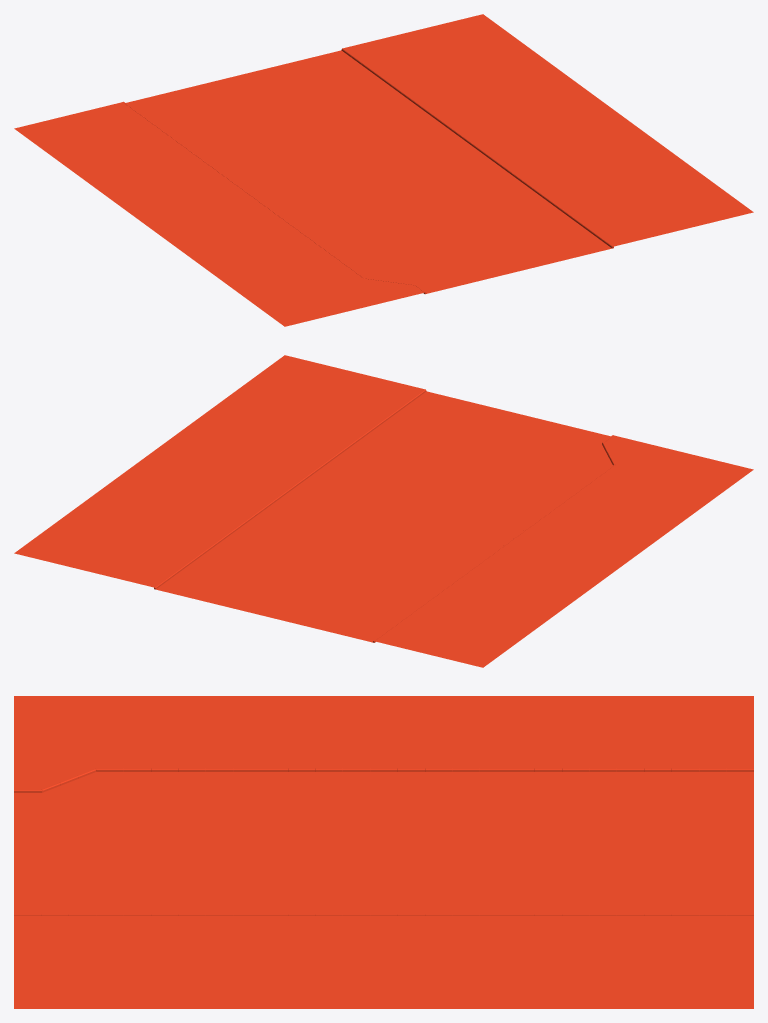
Rendered from SM_Mainroad_Stop_Start_L_30x30_City.fbx.
3 views of the same model, one above another, from view 1: azimuth 30°, elevation 25°; view 2: azimuth 150°, elevation 25°; view 3: azimuth 270°, elevation 25° (orthographic). The views are drawn at different scales.
Visible parts, largest first — view 1: SM_Mainroad_Stop_Start_L_30x30_City; view 2: SM_Mainroad_Stop_Start_L_30x30_City; view 3: SM_Mainroad_Stop_Start_L_30x30_City.
Boxes of the visible parts, x1=… form: SM_Mainroad_Stop_Start_L_30x30_City: x1=14, y1=14, x2=753, y2=326; SM_Mainroad_Stop_Start_L_30x30_City: x1=14, y1=355, x2=753, y2=667; SM_Mainroad_Stop_Start_L_30x30_City: x1=14, y1=696, x2=753, y2=1008.
Size of the model in its own units: 30 by 0.1149 by 30.
